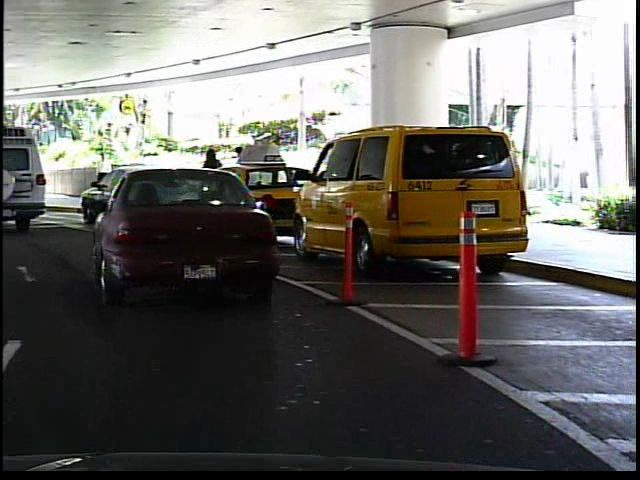person: (198, 142, 230, 207), (232, 140, 257, 206), (91, 146, 115, 202), (23, 155, 43, 198)
